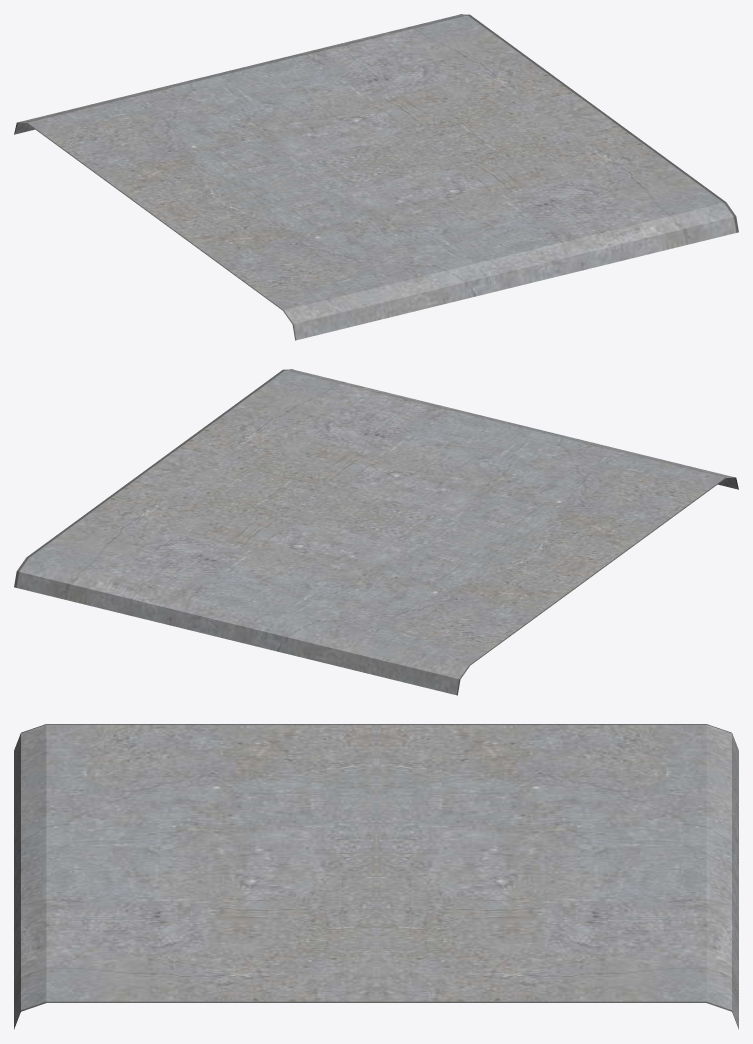
The picture shows the model from 3 angles, top to bottom: view 1: azimuth 30°, elevation 25°; view 2: azimuth 150°, elevation 25°; view 3: azimuth 270°, elevation 25°; orthographic projection. The views are drawn at different scales.
Visible parts, largest first — view 1: Plane; view 2: Plane; view 3: Plane.
Boxes of the visible parts, x1,y1,x2,y2 form: Plane: (14, 14, 738, 340); Plane: (14, 369, 738, 695); Plane: (14, 724, 738, 1029).
Size of the model in its own units: 200 by 8.97 by 220.
1 material, 1 textured.
